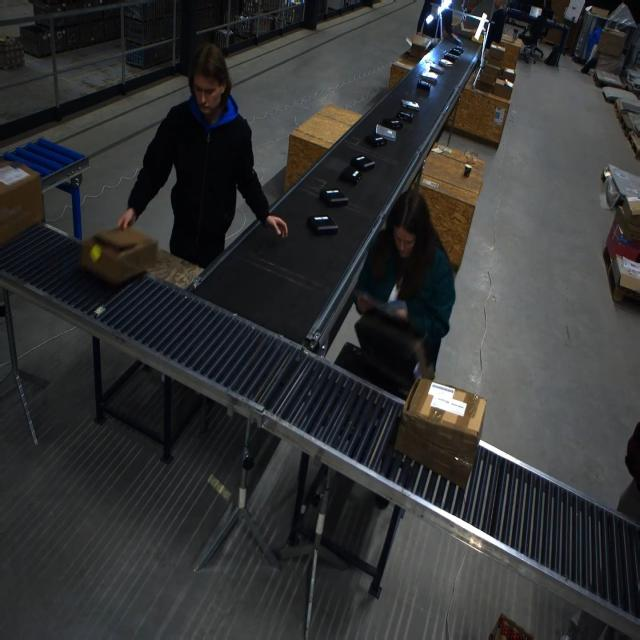box: (398, 379, 484, 487), (79, 225, 158, 287), (1, 162, 45, 248), (406, 35, 429, 59), (478, 62, 501, 83), (492, 75, 513, 97)
product: (307, 214, 338, 236), (319, 187, 347, 207), (339, 165, 364, 185), (349, 154, 373, 172), (364, 133, 387, 148), (375, 124, 395, 140), (381, 117, 401, 130), (420, 71, 438, 85), (400, 99, 419, 111), (397, 110, 414, 122), (427, 62, 444, 74), (443, 52, 459, 63), (417, 79, 431, 90), (449, 45, 463, 55), (438, 58, 453, 67)
